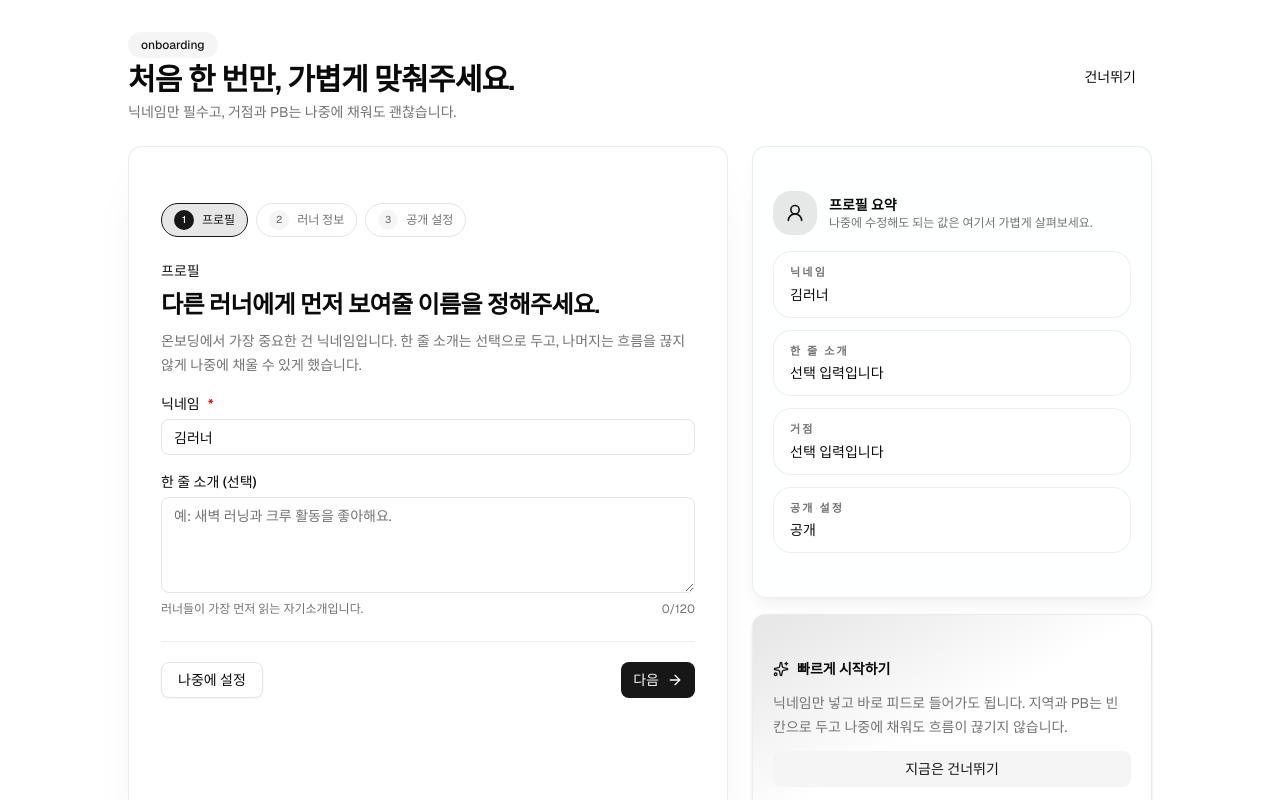
it: OnboardingPage funnel migration › keeps next/back behavior and visible step labels aligned with the funnel step
Check: the text "프로필" is shown, box left=202, top=212, right=235, bottom=228
Check: the text "러너 정보" is shown, box left=297, top=212, right=344, bottom=228
Click the button "다음" at (658, 680), box left=621, top=662, right=695, bottom=698
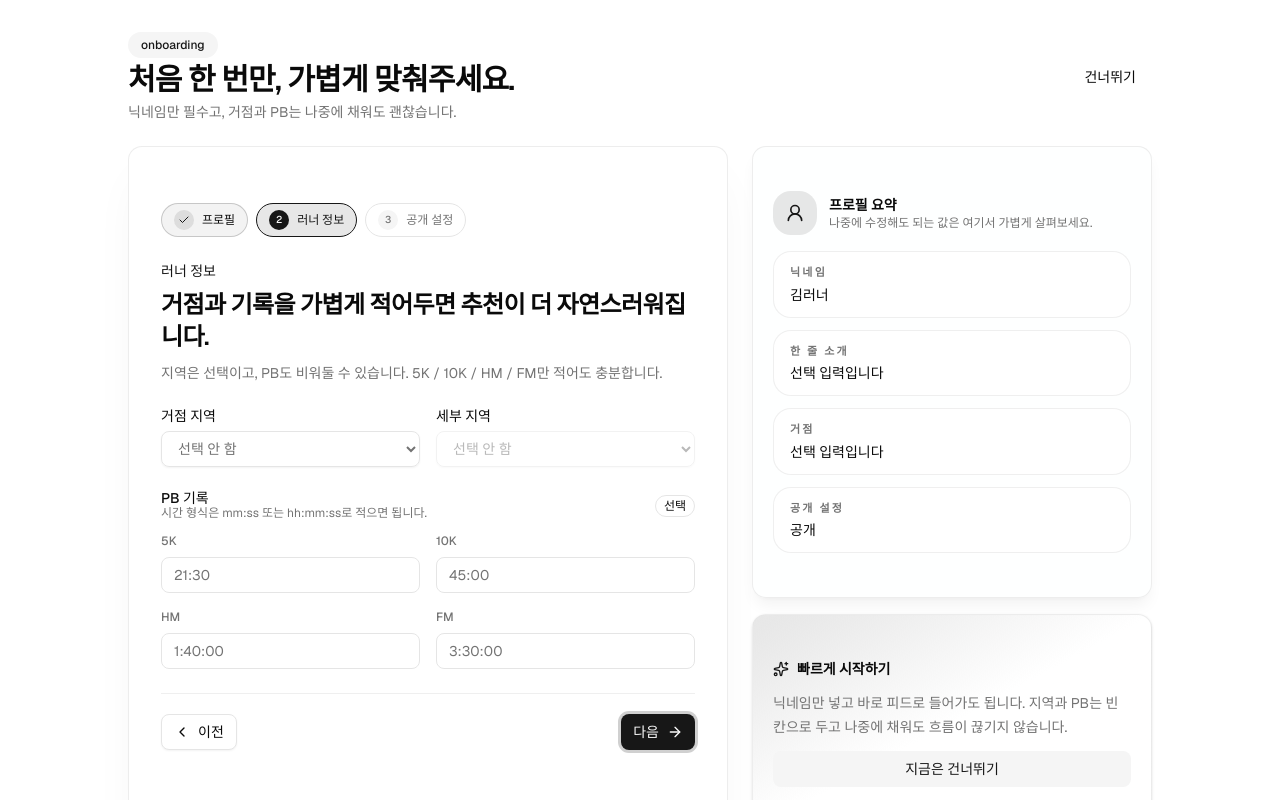
Check: the heading "거점과 기록을 가볍게 적어두면 추천이 더 자연스러워집니다." is shown, box left=161, top=289, right=695, bottom=353
Click the button "이전" at (199, 732), box left=161, top=714, right=237, bottom=750
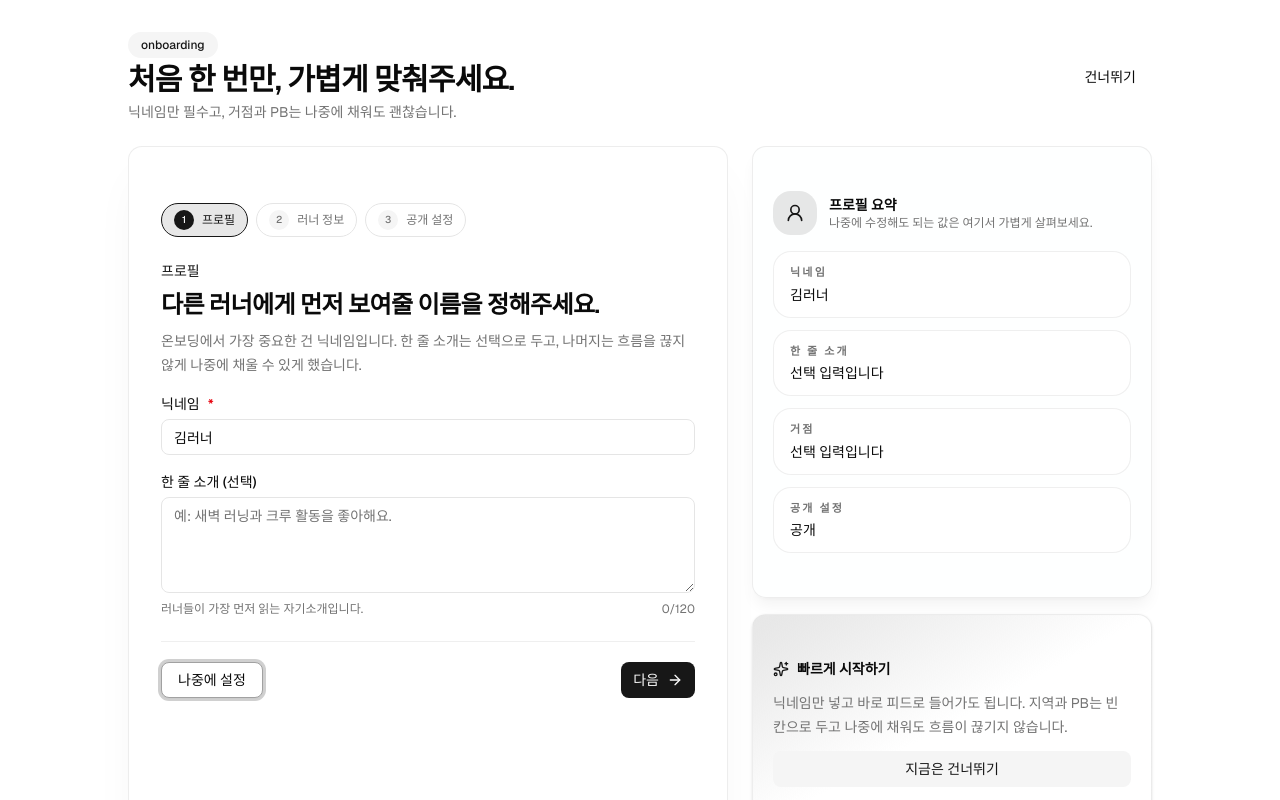
Check: the heading "다른 러너에게 먼저 보여줄 이름을 정해주세요." is shown, box left=161, top=289, right=599, bottom=320
